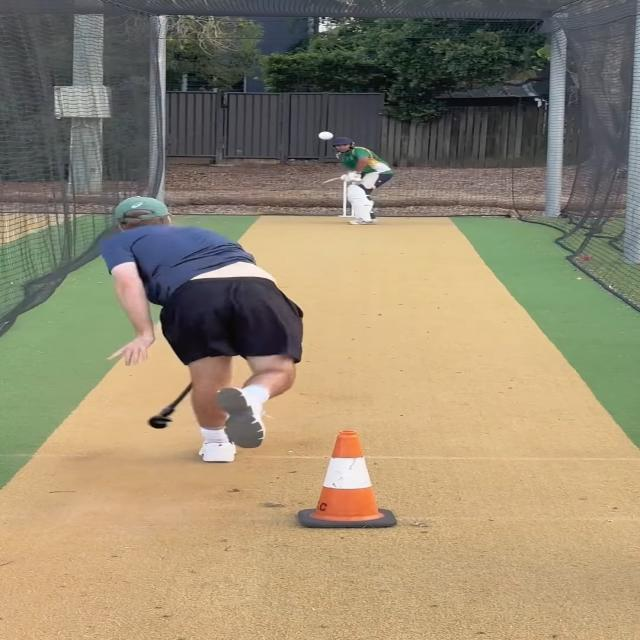Cricket ball: (316, 128, 336, 142)
